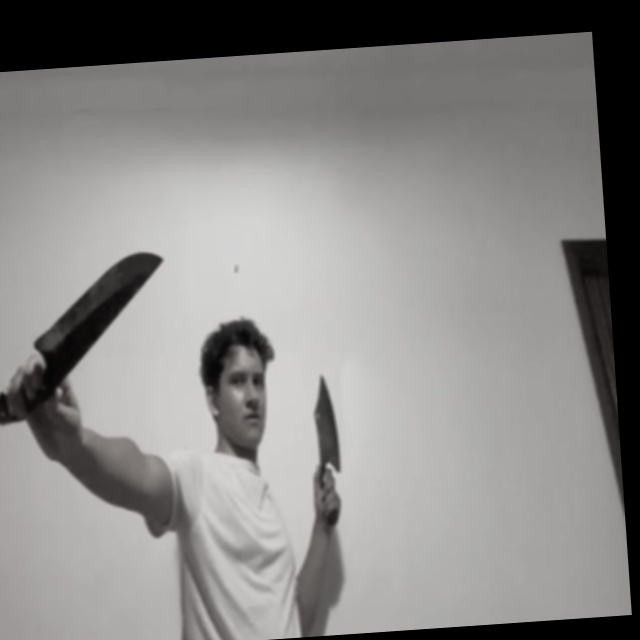Sharp-Object: (28, 248, 169, 362), (308, 371, 342, 471)
